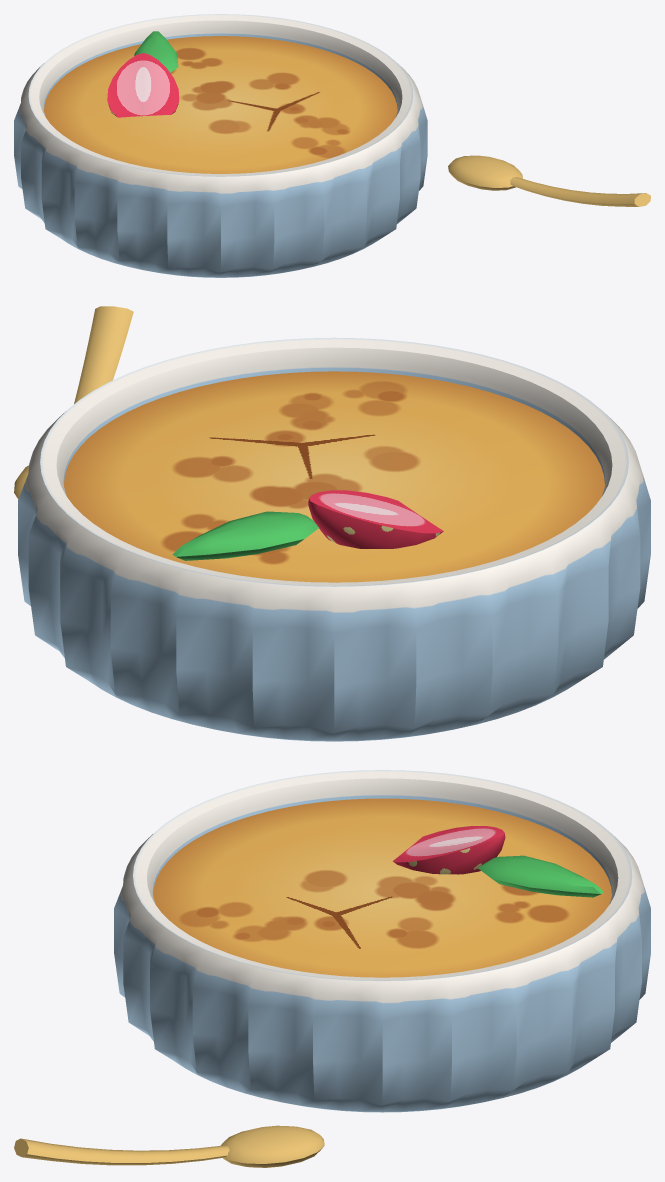
The model's file is CremeBrulee.glb.
3 views of the same model, one above another, from view 1: azimuth 30°, elevation 25°; view 2: azimuth 150°, elevation 25°; view 3: azimuth 270°, elevation 25° (orthographic). The views are drawn at different scales.
Visible parts, largest first — view 1: CremeBrulee; view 2: CremeBrulee; view 3: CremeBrulee.
Boxes of the visible parts, x1,y1,x2,y2 form: CremeBrulee: (14, 14, 650, 277); CremeBrulee: (14, 306, 650, 741); CremeBrulee: (14, 770, 650, 1167).
Bounding box in the file's own units: 1.28 × 0.326 × 1.15.
Materials: 6 (6 with a texture image).
